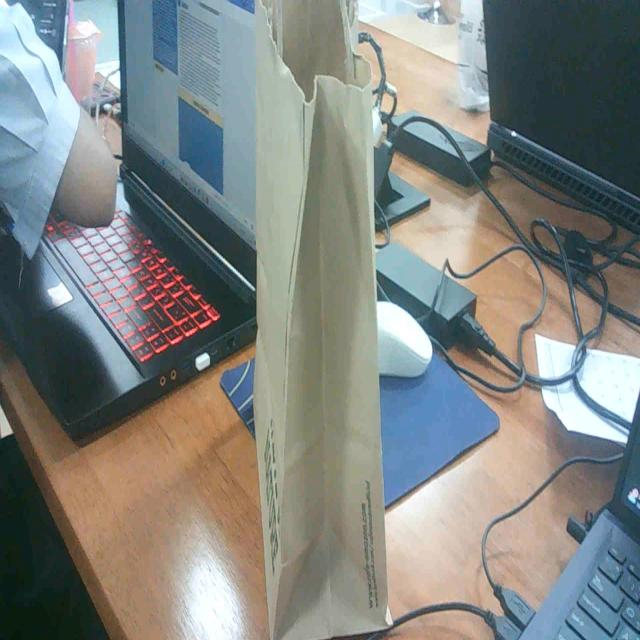bag: (238, 0, 410, 640)
